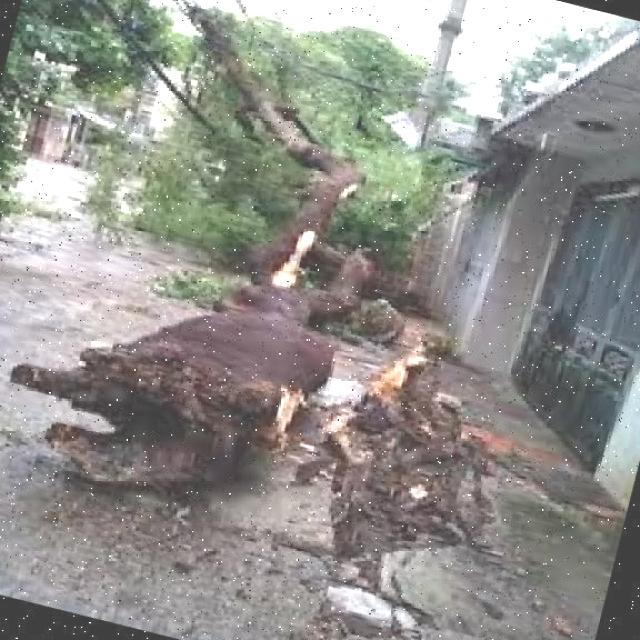fallen_object: (67, 34, 460, 577)
